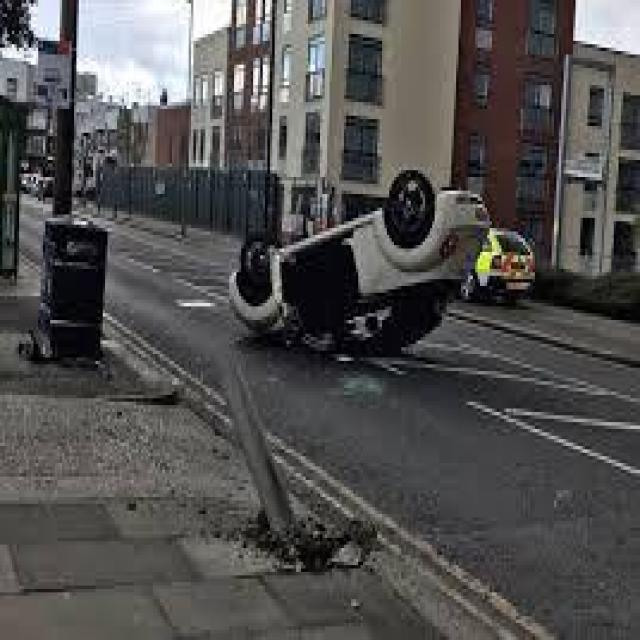accident: (223, 160, 492, 366)
